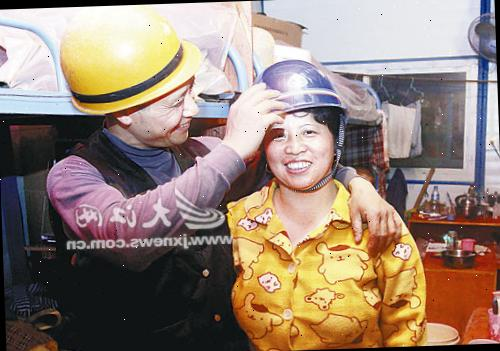helmet: (58, 2, 202, 116), (255, 57, 349, 116)
no_wear: (61, 138, 229, 351), (232, 182, 421, 351)
